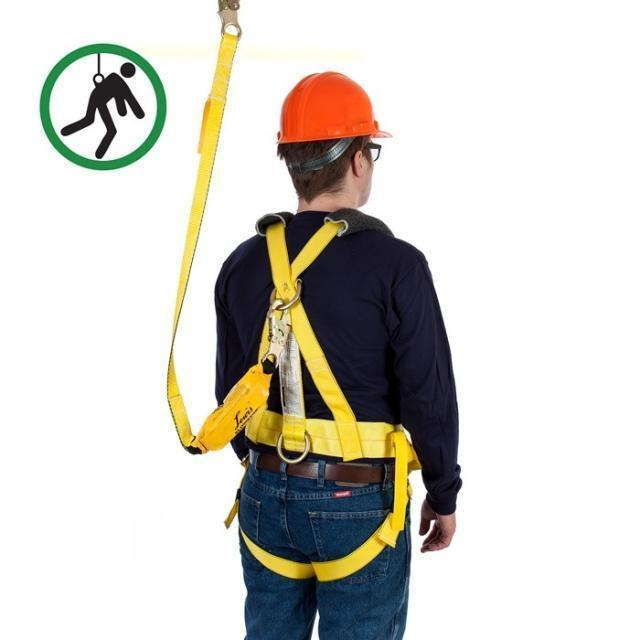Arnes_seguridad: (229, 210, 413, 481)
